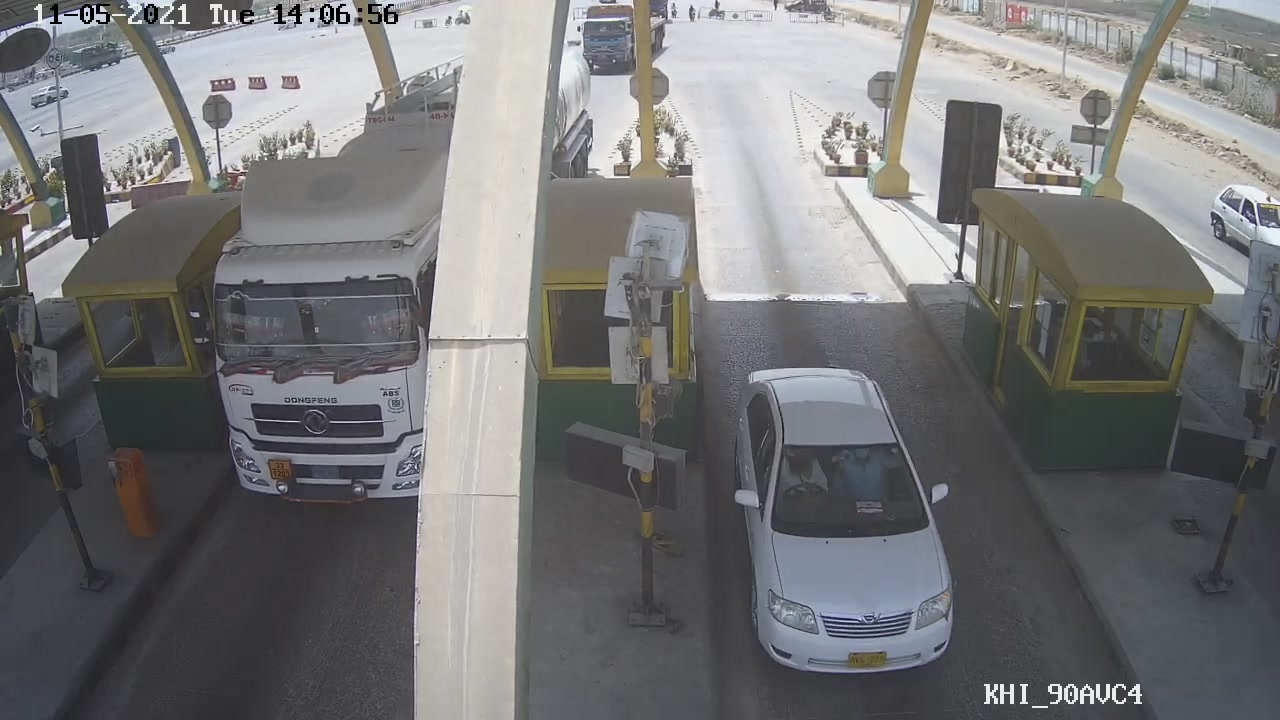F1: (727, 361, 964, 679)
